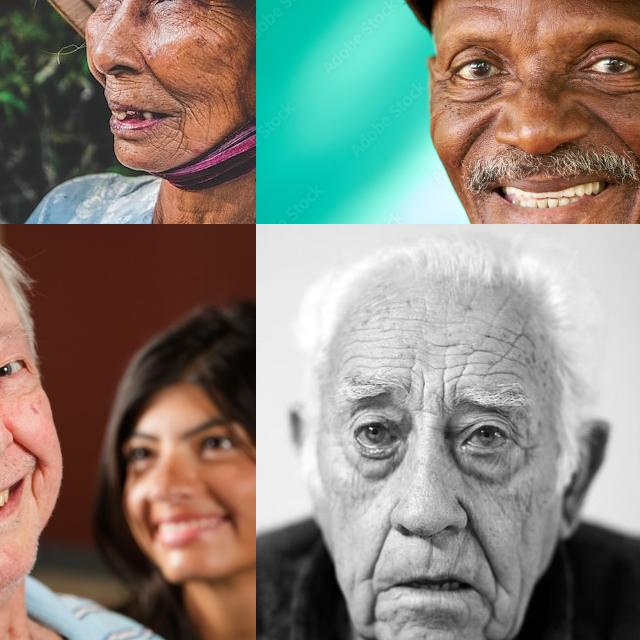chin: (155, 131, 189, 157)
crows_feet: (432, 68, 456, 95), (207, 0, 229, 24)
forehead: (442, 333, 530, 385), (347, 334, 421, 376), (462, 0, 502, 16)
frown_line: (415, 388, 449, 418)
gummy_smile: (464, 511, 502, 572), (585, 105, 623, 144), (368, 514, 389, 578), (13, 432, 47, 464), (457, 123, 483, 163), (137, 53, 165, 87)
sad_smile: (178, 94, 216, 128), (479, 597, 500, 640), (22, 470, 46, 506), (364, 589, 380, 629)
smoker_lines: (105, 78, 132, 100)
